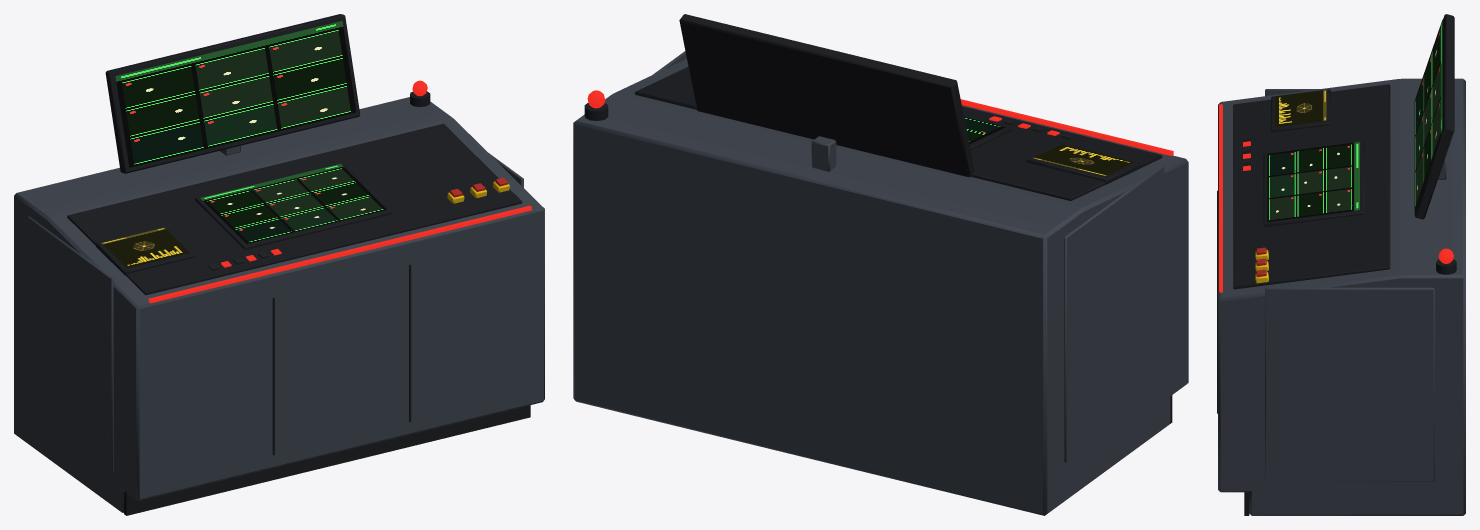
Rendered from console_tactical.glb.
The picture shows the model from 3 angles, left to right: view 1: azimuth 30°, elevation 25°; view 2: azimuth 150°, elevation 25°; view 3: azimuth 270°, elevation 25°; orthographic projection. The views are drawn at different scales.
Visible parts, largest first — view 1: console_tactical; view 2: console_tactical; view 3: console_tactical.
Boxes of the visible parts, x1,y1,x2,y2 form: console_tactical: (14, 14, 544, 515); console_tactical: (573, 14, 1188, 515); console_tactical: (1217, 14, 1465, 515).
Bounding box in the file's own units: 1.82 × 1.47 × 0.954.
8 materials, 2 textured.
